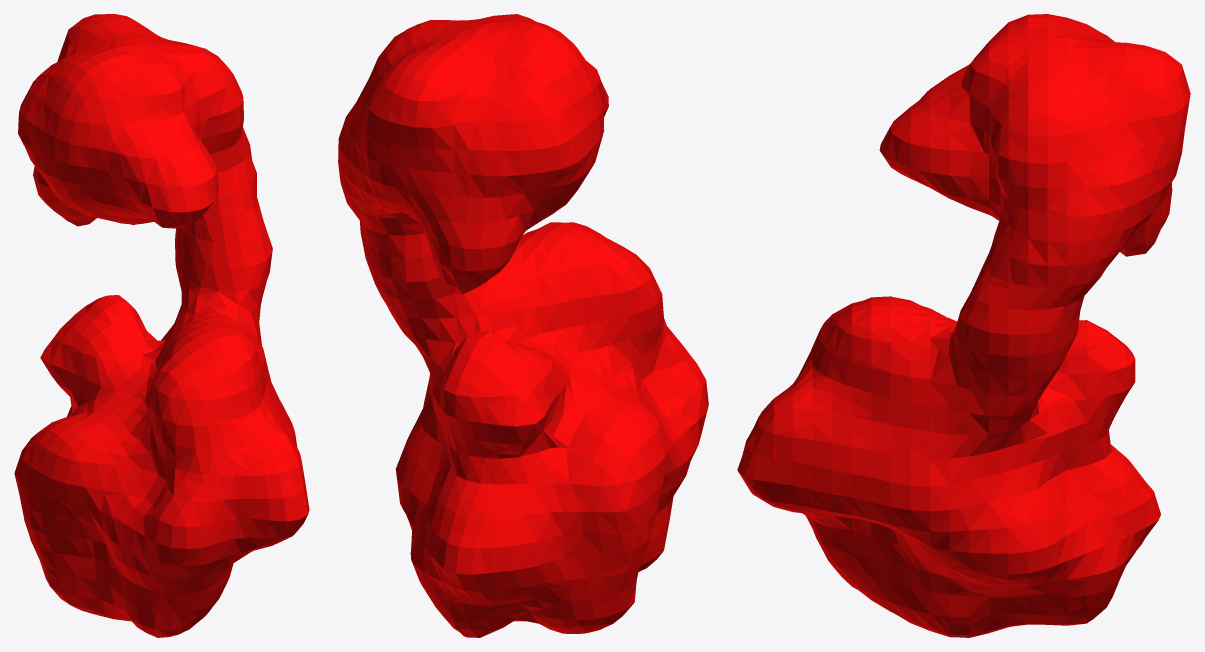
File: iclR_coarse.dae
3 views of the same model, side by side, from view 1: azimuth 30°, elevation 25°; view 2: azimuth 150°, elevation 25°; view 3: azimuth 270°, elevation 25° (orthographic). The views are drawn at different scales.
Parts seen in each view (by area): view 1: iclR; view 2: iclR; view 3: iclR.
Part boxes in pixels (box(x1,y1,x2,y2)): iclR: box(14, 14, 309, 637); iclR: box(338, 14, 708, 637); iclR: box(737, 14, 1190, 637).
Bounding box in the file's own units: 37.02 × 78.5 × 54.05.
